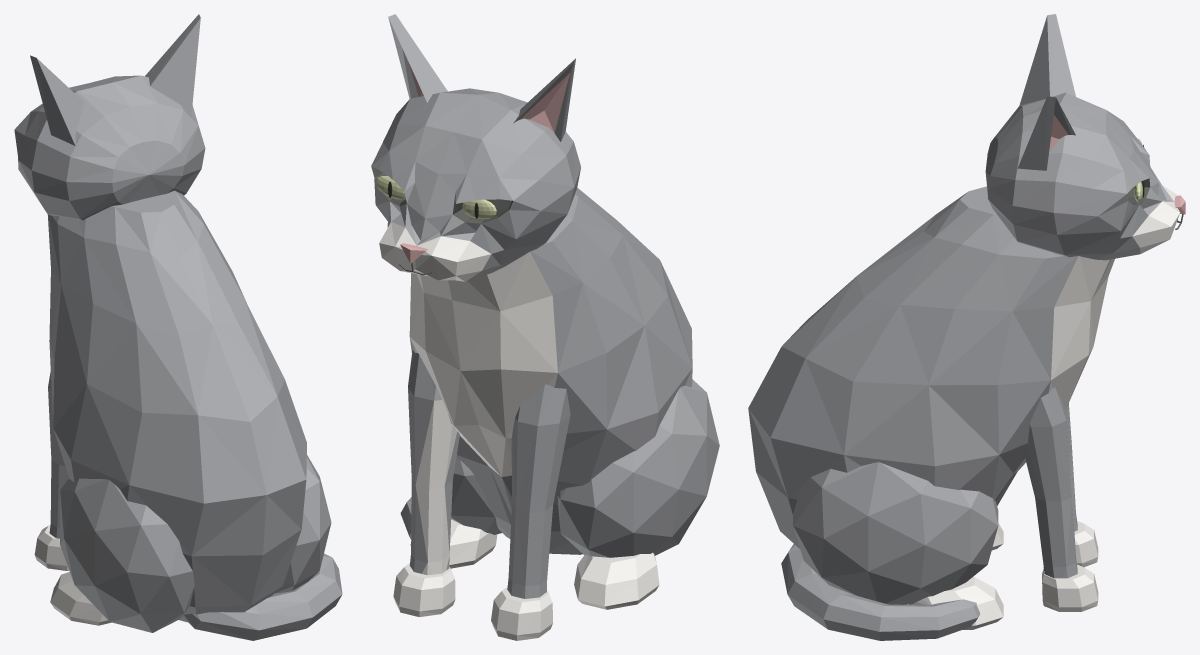
Rendered from cat_fit_r10.glb.
3 renders of one model, left to right at view 1: azimuth 30°, elevation 25°; view 2: azimuth 150°, elevation 25°; view 3: azimuth 270°, elevation 25°, orthographic. The views are drawn at different scales.
Parts seen in each view (by area): view 1: Rounded_Torso_MASTER, Sculpted_Head_MASTER, Haunch_Right_MASTER, Curled_tail_MASTER, Haunch_Left_MASTER, Thick_Ear_Left_MASTER, Thick_Ear_Right_MASTER, Hind_paw_Right_MASTER, Foreleg_Right_MASTER, Front_paw_Right_MASTER; view 2: Rounded_Torso_MASTER, Sculpted_Head_MASTER, Haunch_Right_MASTER, Foreleg_Right_MASTER, Foreleg_Left_MASTER, Hind_paw_Right_MASTER, Front_paw_Left_MASTER, Front_paw_Right_MASTER, Thick_Ear_Right_MASTER, Haunch_Left_MASTER, Thick_Ear_Left_MASTER, Hind_paw_Left_MASTER (+1 smaller); view 3: Rounded_Torso_MASTER, Haunch_Left_MASTER, Sculpted_Head_MASTER, Curled_tail_MASTER, Foreleg_Left_MASTER, Thick_Ear_Right_MASTER, Thick_Ear_Left_MASTER, Front_paw_Left_MASTER, Hind_paw_Left_MASTER, Front_paw_Right_MASTER.
Boxes of the visible parts, box(x1,y1,x2,y2) form: Rounded_Torso_MASTER: box(47, 190, 306, 622); Sculpted_Head_MASTER: box(14, 75, 205, 220); Haunch_Right_MASTER: box(60, 478, 194, 632); Curled_tail_MASTER: box(182, 553, 342, 640); Haunch_Left_MASTER: box(274, 455, 331, 593); Thick_Ear_Left_MASTER: box(145, 14, 200, 117); Thick_Ear_Right_MASTER: box(30, 55, 84, 145); Hind_paw_Right_MASTER: box(50, 572, 111, 625); Foreleg_Right_MASTER: box(48, 372, 68, 538); Front_paw_Right_MASTER: box(34, 525, 69, 570); Rounded_Torso_MASTER: box(409, 188, 692, 554); Sculpted_Head_MASTER: box(371, 88, 580, 281); Haunch_Right_MASTER: box(557, 379, 719, 557); Foreleg_Right_MASTER: box(507, 384, 570, 598); Foreleg_Left_MASTER: box(408, 350, 459, 575); Hind_paw_Right_MASTER: box(574, 553, 659, 609); Front_paw_Left_MASTER: box(393, 563, 455, 616); Front_paw_Right_MASTER: box(491, 587, 552, 640); Thick_Ear_Right_MASTER: box(513, 58, 575, 141); Haunch_Left_MASTER: box(451, 457, 501, 534); Thick_Ear_Left_MASTER: box(388, 14, 447, 102); Hind_paw_Left_MASTER: box(410, 519, 497, 568); Rounded_Torso_MASTER: box(748, 186, 1114, 548); Haunch_Left_MASTER: box(793, 462, 998, 604); Sculpted_Head_MASTER: box(985, 92, 1180, 260); Curled_tail_MASTER: box(781, 544, 980, 640); Foreleg_Left_MASTER: box(1023, 387, 1077, 578); Thick_Ear_Right_MASTER: box(1019, 14, 1075, 105); Thick_Ear_Left_MASTER: box(1017, 96, 1075, 170); Front_paw_Left_MASTER: box(1042, 564, 1098, 611); Hind_paw_Left_MASTER: box(908, 576, 1003, 629); Front_paw_Right_MASTER: box(1074, 521, 1098, 567).
Bounding box in the file's own units: 0.0762 × 0.15 × 0.1134.
